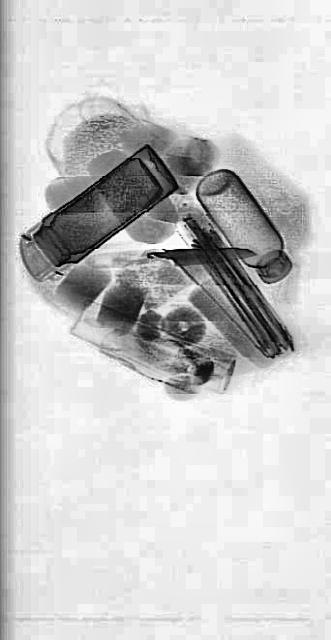Knife: (146, 242, 258, 268)
